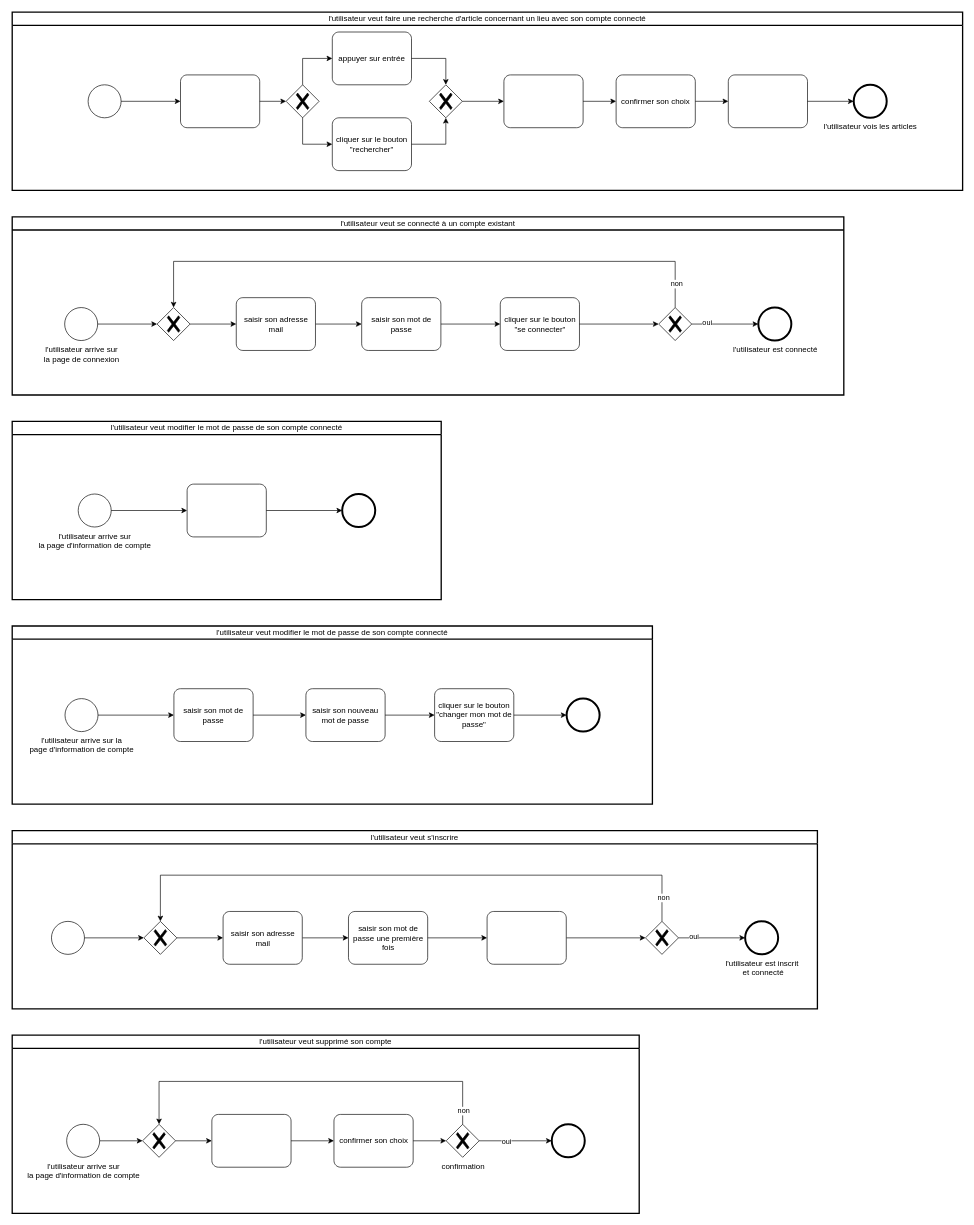
Image size: 974x1225. Some labels were removed from this diagram. Each missing label, with the centre of its shape:
1er mot de passe est identique au second ?: (661,937)
afficher les 10 articles les plus récents en rapport avec le lieu: (768,101)
cliquer sur le bouton "supprimer le compte": (251,1140)
cliquer sur le bouton se déconnecter: (226,510)
informations valides ?: (675,324)
l'utilisateur arrive sur la page d'accueil: (104,101)
l'utilisateur arrive sur la page s'incrire: (67,937)
l'utilisateur est déconnecté: (358,510)
le compte est supprimé et l'utilisateur est deconnecté: (568,1140)
le mot de passe est modifié: (583,715)
saisir son mot de passe une deuxième fois: (526,937)
saisir un lieu, une pays, un monument, une adresse: (220,101)
sélectionner un lieu résultant de la saisie: (543,101)
